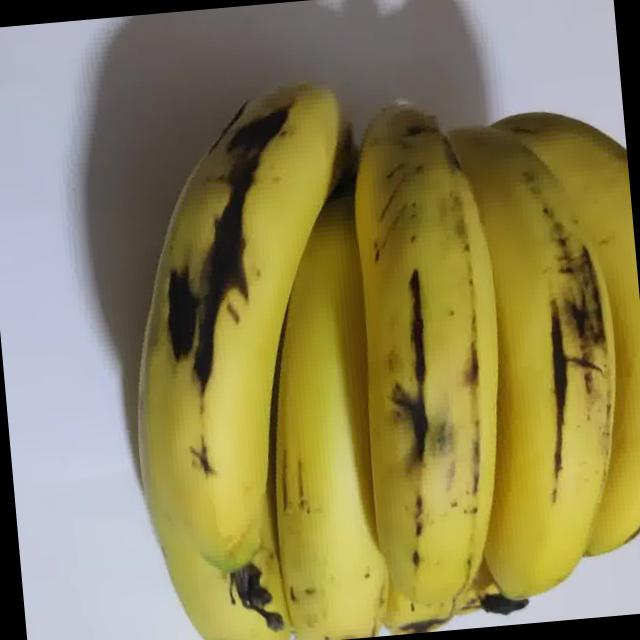banana_pacche: (91, 0, 640, 640)
